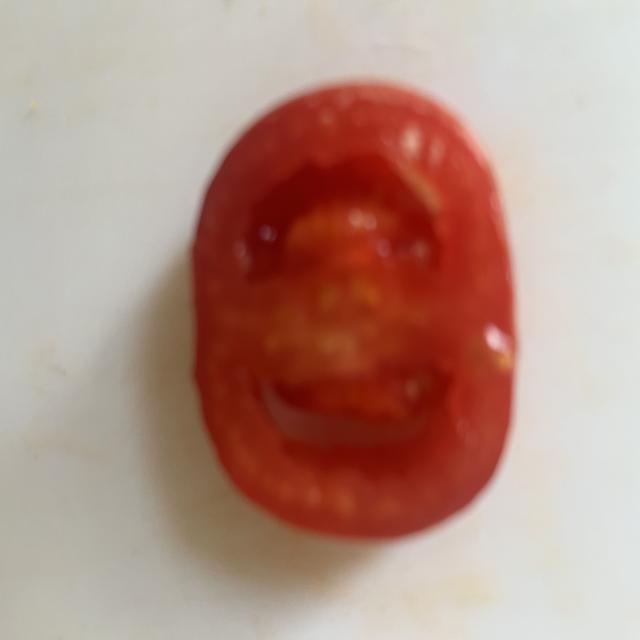sliced_tomato: (194, 85, 515, 537)
